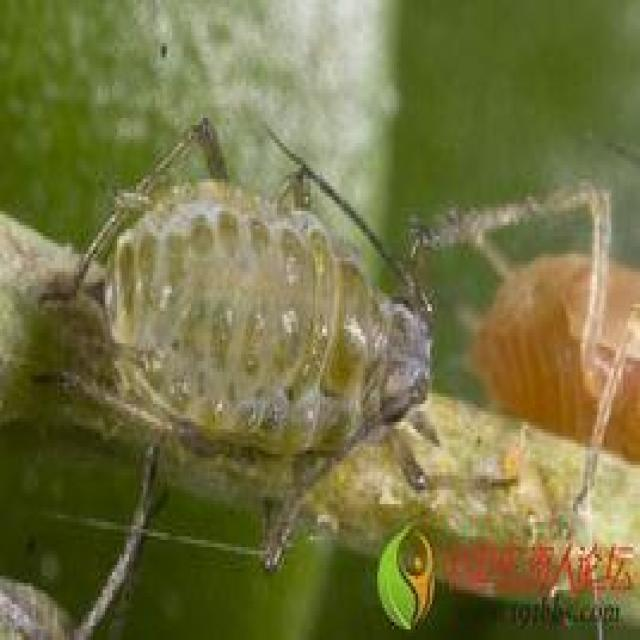Aphids: (37, 101, 483, 562)
